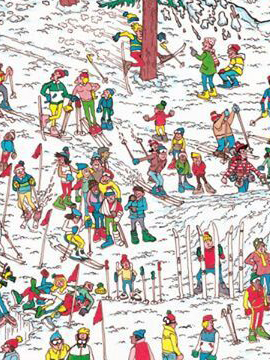waldo: (233, 140, 249, 160)
